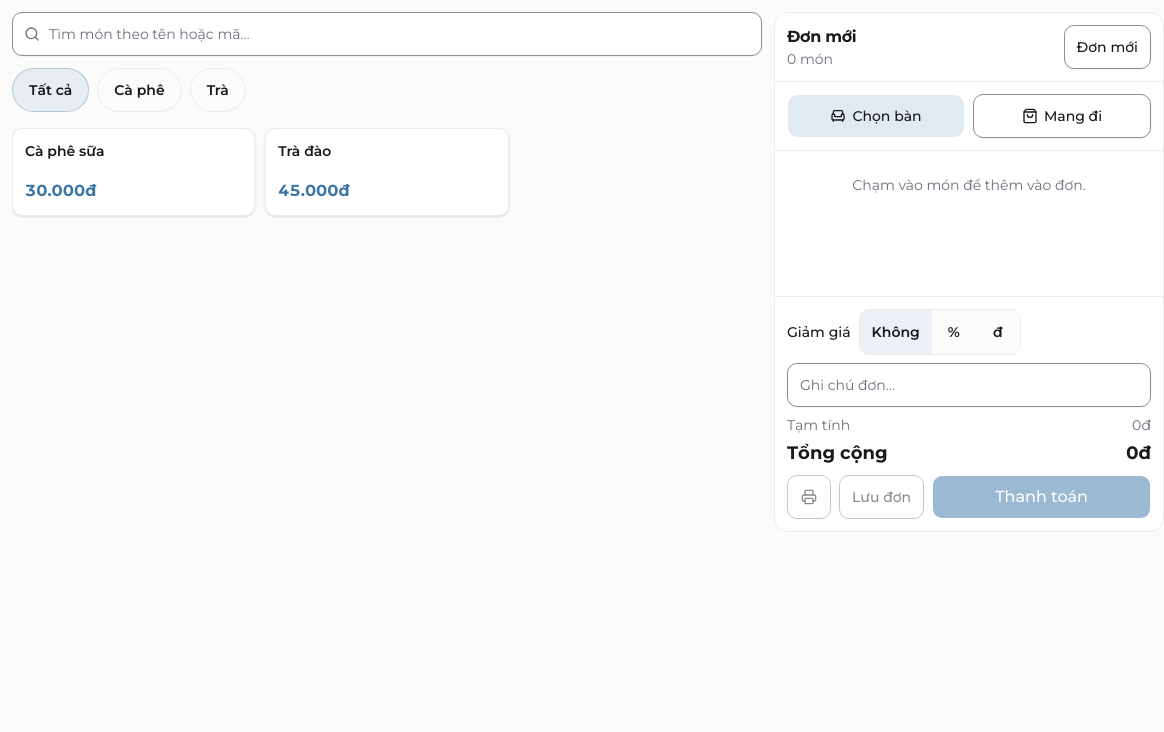
PosSell › không có tuỳ chọn nào → thêm thẳng 1 chạm; lọc theo danh mục và tìm nhanh
Click the tab "Trà" at (218, 90), box [190,68,246,112]
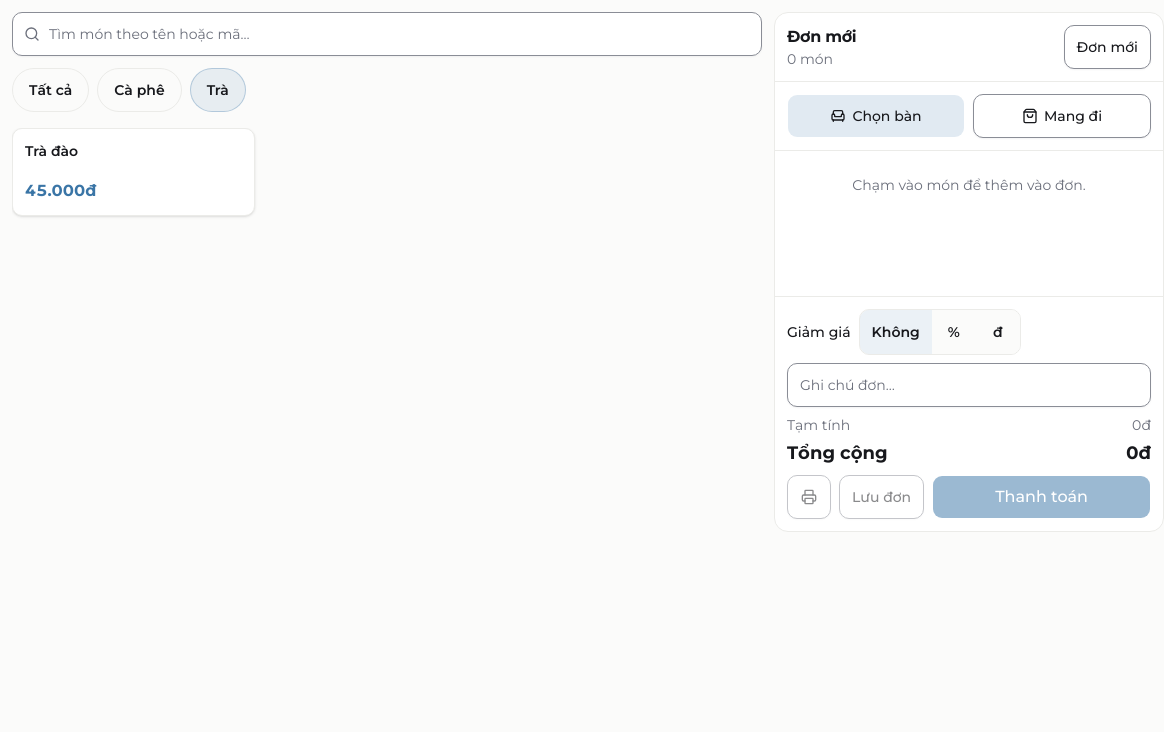
Now the button "Cà phê sữa" is gone
Click the button "Trà đào 45.000đ" at (134, 172), box [12,128,255,216]
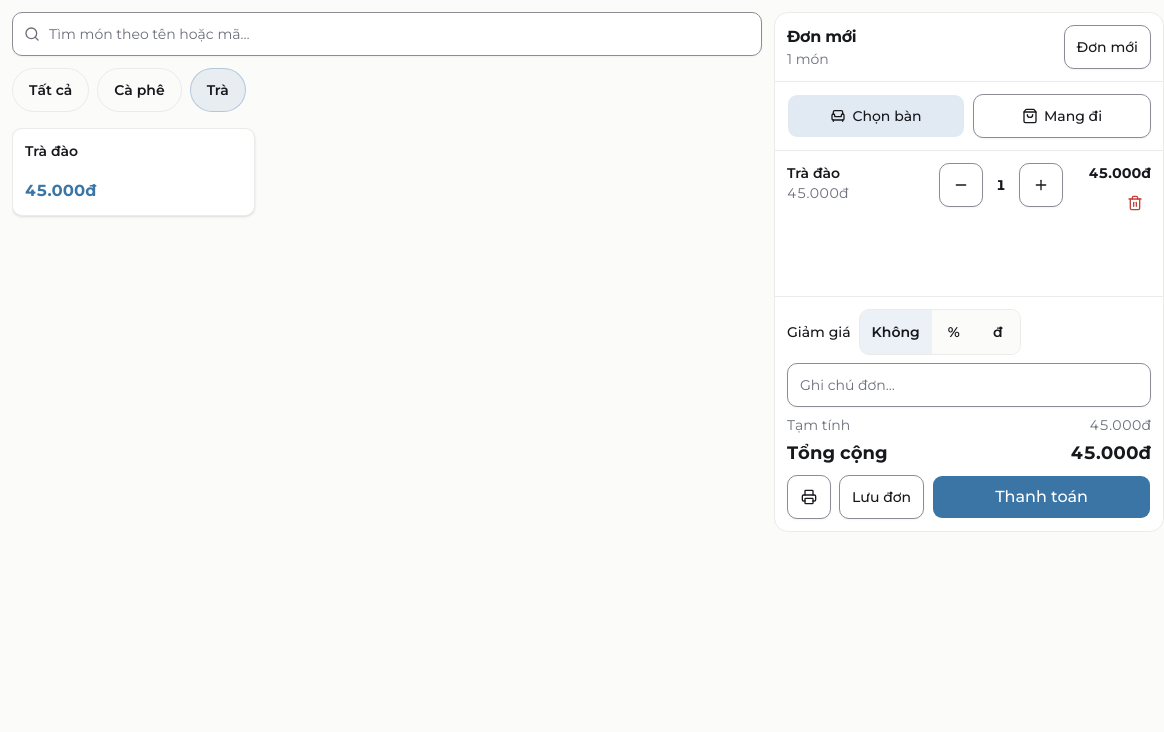
Click the button named "Tăng Trà đào" at (1041, 185), box [1019,163,1063,207]
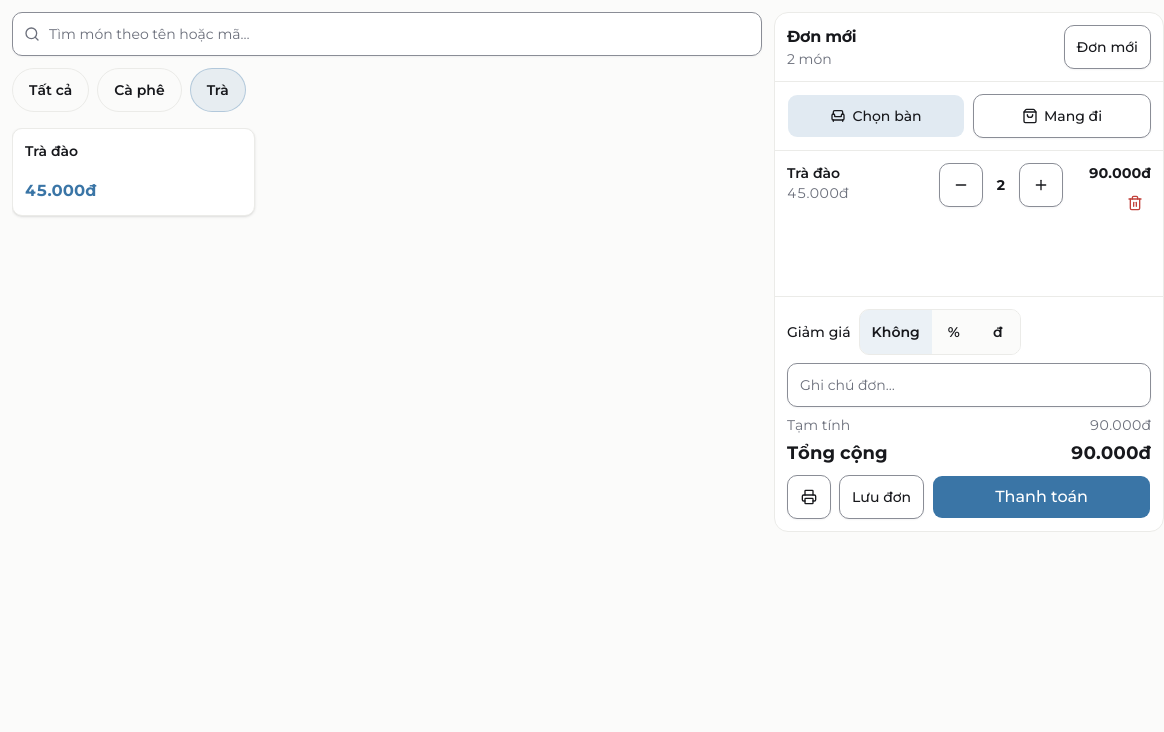
Now the element named "Giỏ hàng" shows "90.000đ", box [1089,164,1151,182]
Type "zzz" into the field labelled "Tìm món" at (387, 34), box [12,12,762,56]
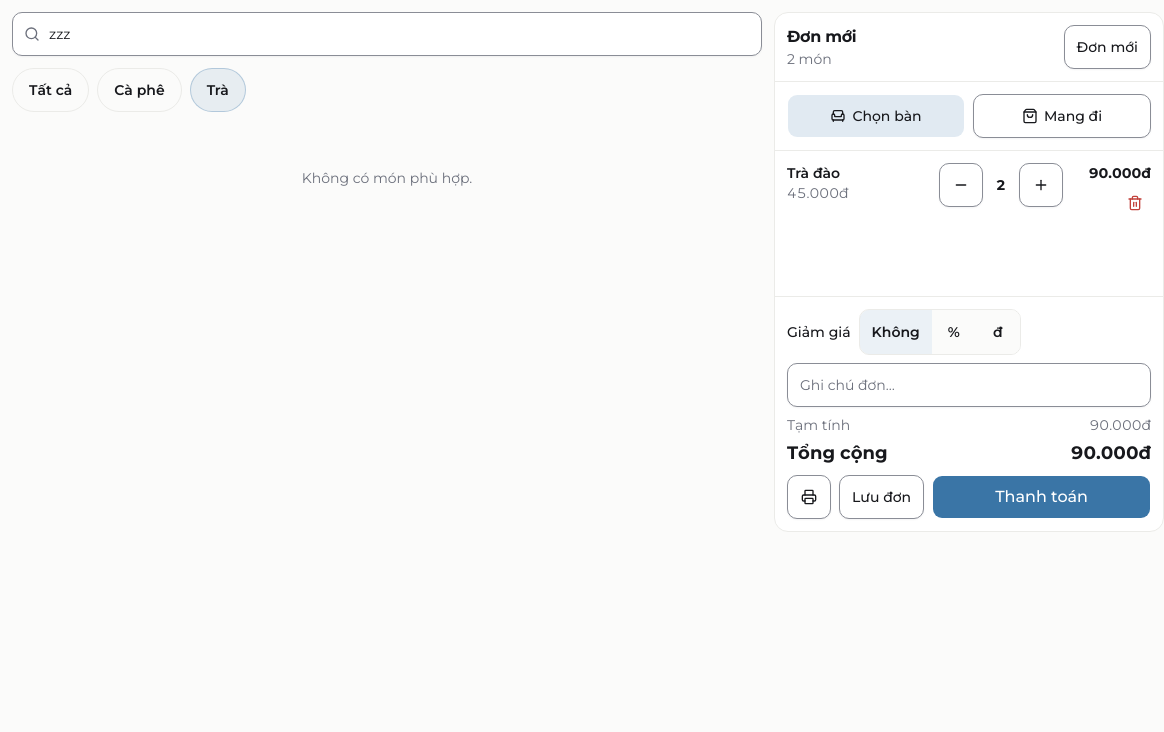
Now the text "Không có món phù hợp." is shown, box [302,169,472,187]
